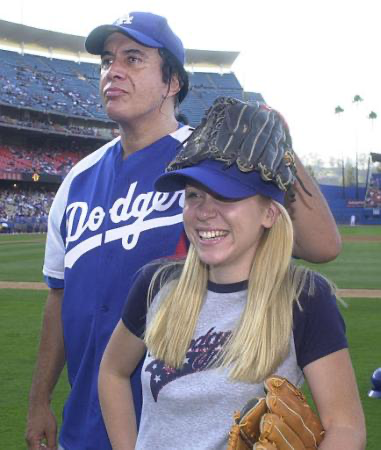Face: (178, 166, 262, 277), (95, 33, 168, 129)
